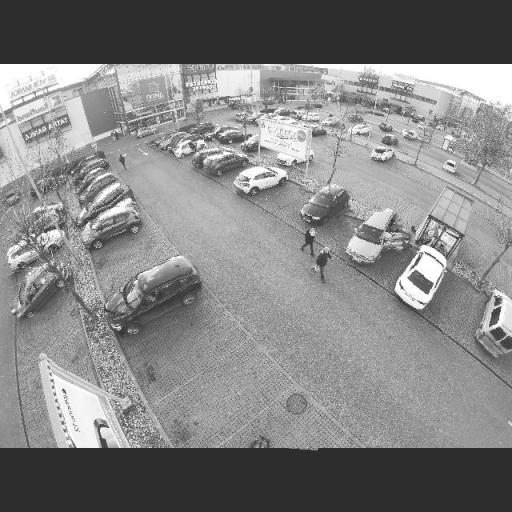busy: (100, 258, 202, 330), (338, 206, 406, 266), (392, 246, 444, 308), (9, 264, 68, 318), (81, 203, 143, 242), (476, 292, 512, 358), (295, 184, 350, 226), (82, 187, 136, 216), (234, 164, 284, 194), (74, 176, 121, 200), (202, 152, 248, 174), (170, 138, 206, 158), (76, 169, 112, 186), (216, 127, 248, 145), (193, 146, 223, 164), (368, 146, 396, 164), (348, 125, 372, 139), (318, 116, 341, 129), (379, 134, 397, 146), (401, 131, 417, 141), (378, 122, 392, 132)
free: (193, 379, 260, 418), (439, 276, 475, 338), (164, 330, 220, 368), (248, 423, 318, 449), (112, 246, 154, 276), (30, 313, 69, 338), (31, 349, 75, 371), (342, 174, 368, 198), (270, 189, 301, 208), (376, 192, 398, 212), (314, 165, 336, 184), (342, 144, 358, 157), (405, 166, 421, 178)
